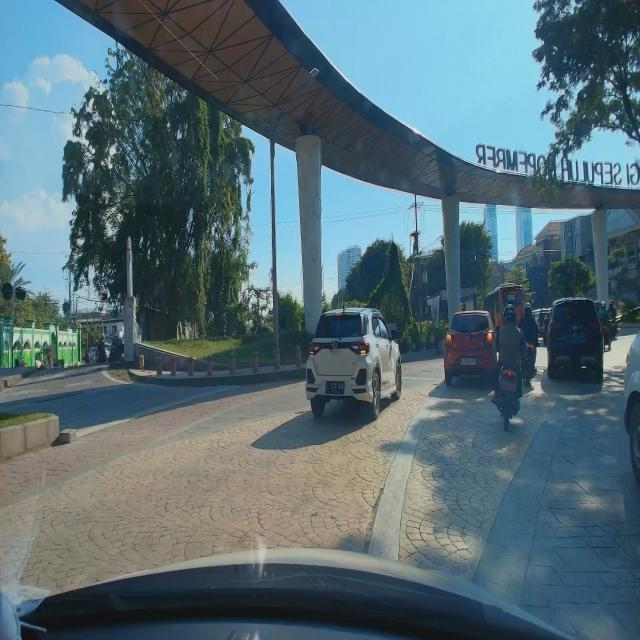car: (304, 306, 403, 421), (546, 294, 604, 384), (444, 308, 499, 387)
license-plate: (325, 382, 345, 393), (461, 357, 476, 366)
